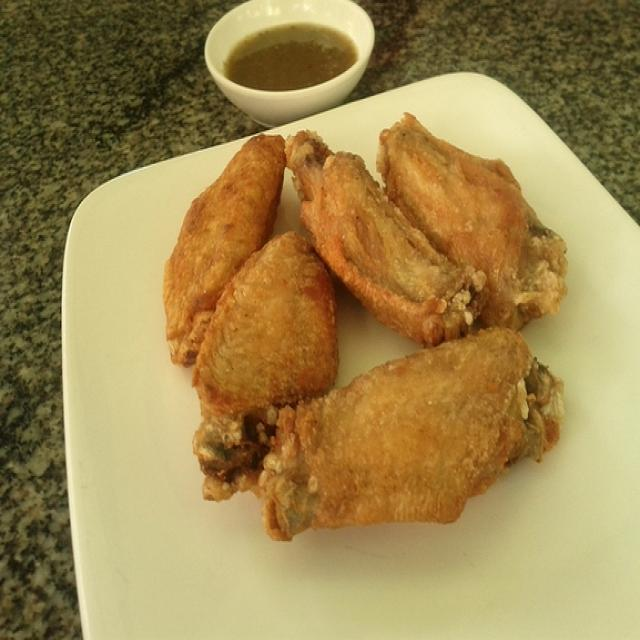Deep fried chicken wing: (154, 114, 576, 550)
